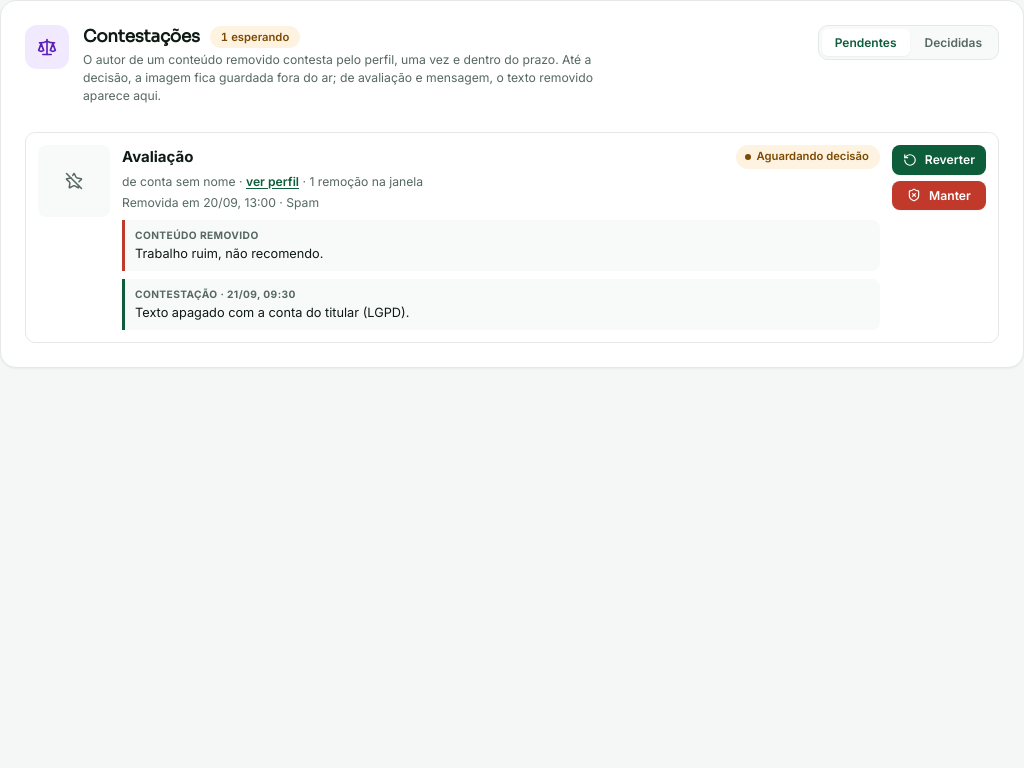
Test: AppealsSection: a fila › uma remoção só fica no singular; conta anonimizada aparece sem nome e sem o texto
The width and height of the screenshot is (1024, 768).
Expected: the text "Avaliação" is shown, x1=122 y1=146 x2=194 y2=168
Click the button "Manter" at coordinates (939, 195), box x1=892 y1=181 x2=986 y2=210
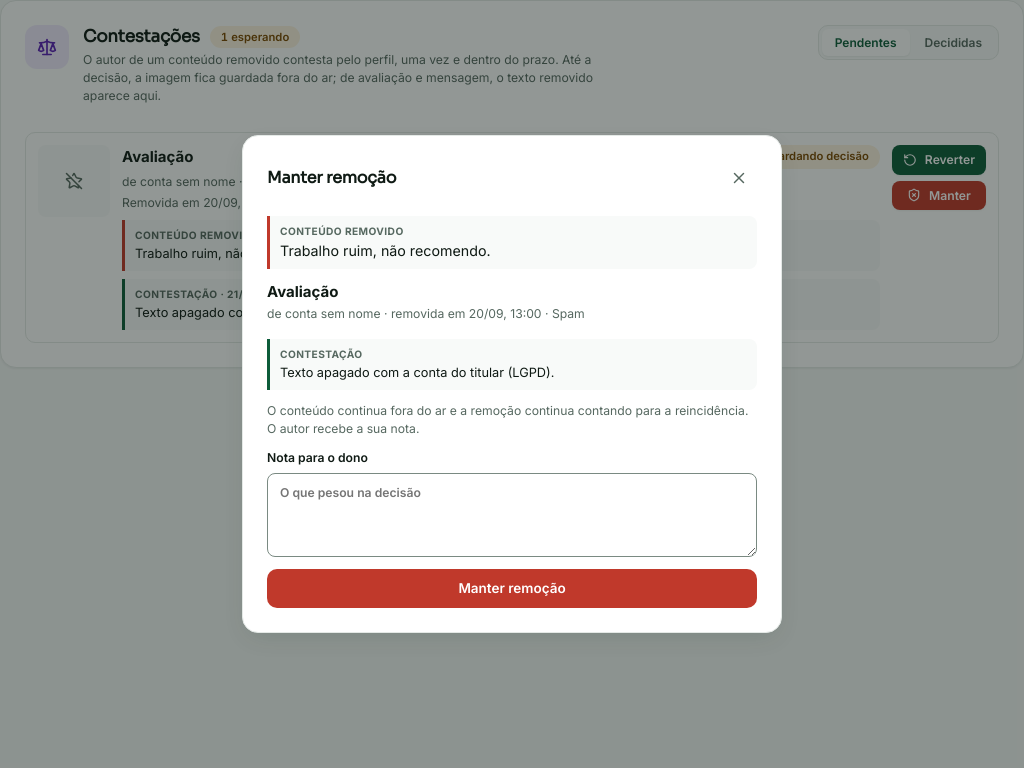
Expected: the text "Texto apagado com a conta do titular (LGPD)." reads "Contestação Texto apagado com a conta do titular (LGPD).", x1=267 y1=339 x2=757 y2=390
